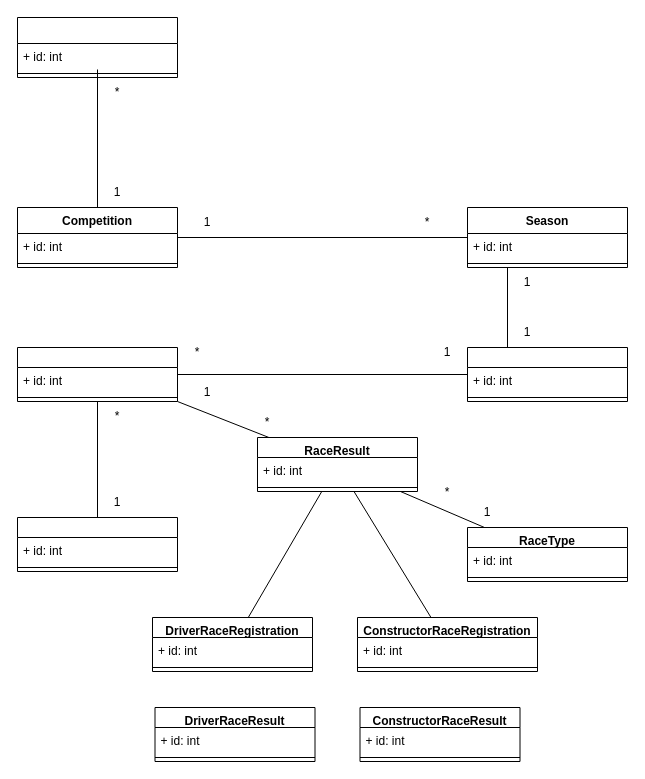
Image size: 645x779. Some labels were removed from this diagram. The shapes that lost their labels are listed below. From the top down, each one's box as (x1, y1, x2, y2) in pixels, then its label:
(16, 16, 178, 78): Constructor
(16, 346, 178, 402): Raceweek
(466, 346, 628, 402): Calendar
(16, 516, 178, 572): Circuite
